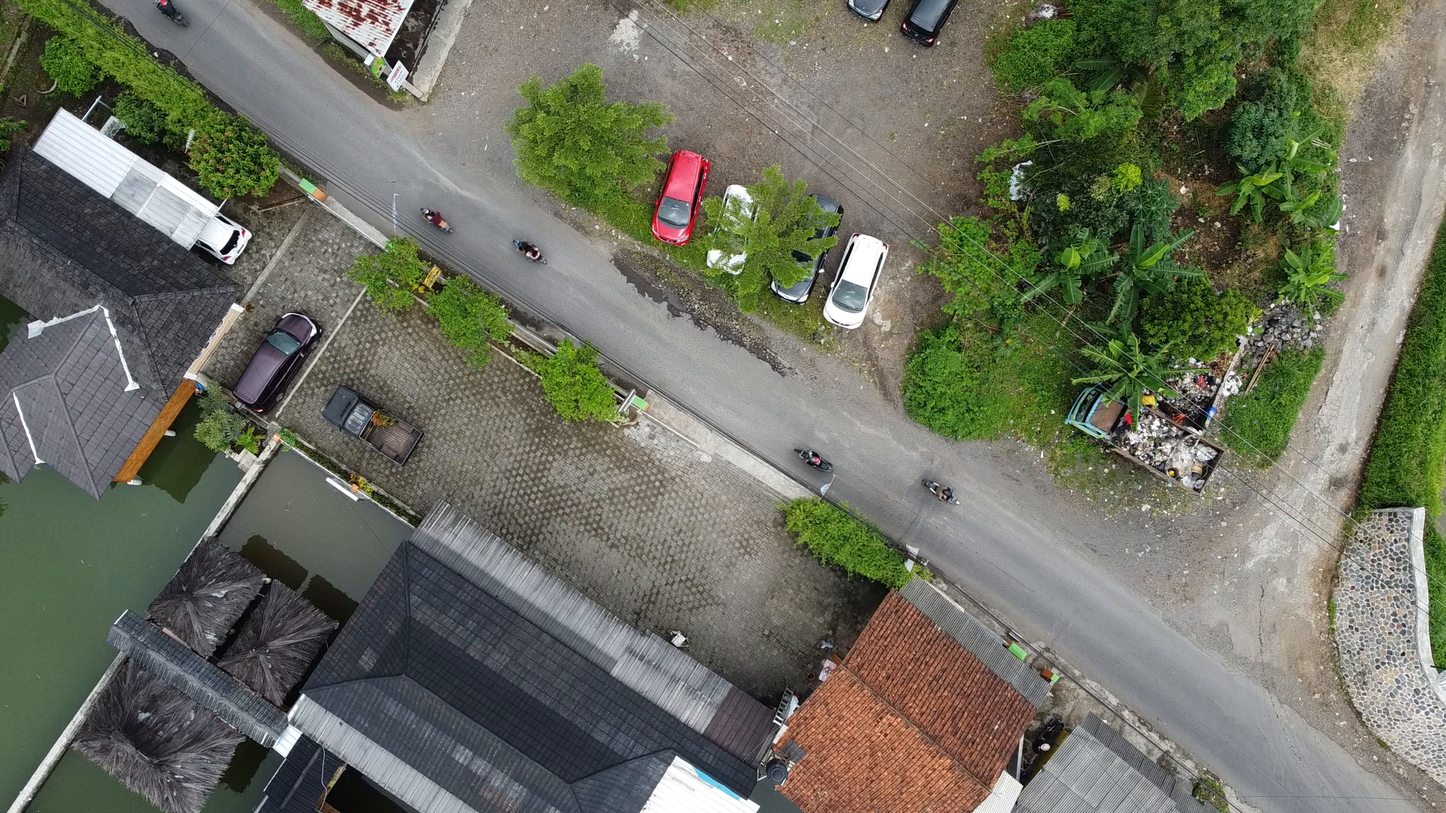mobil: (761, 160, 850, 312), (309, 382, 447, 472), (225, 309, 342, 405), (819, 215, 894, 330), (643, 141, 715, 255), (708, 177, 764, 282), (892, 2, 961, 59), (197, 210, 258, 266)
